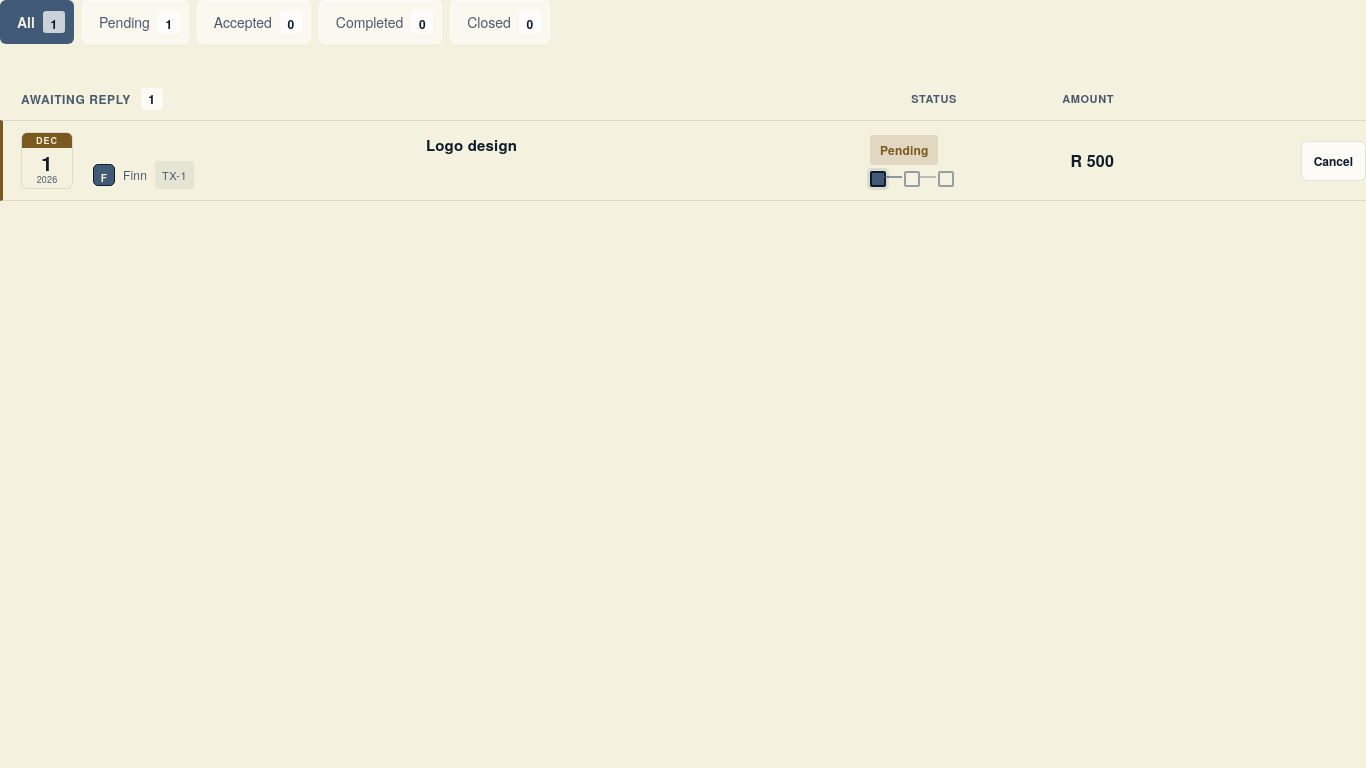
Test: BookingsList status actions › asks first for a confirmed action, then applies it
Click the button "Cancel".
click(1333, 161)  # box [1301,141,1365,181]
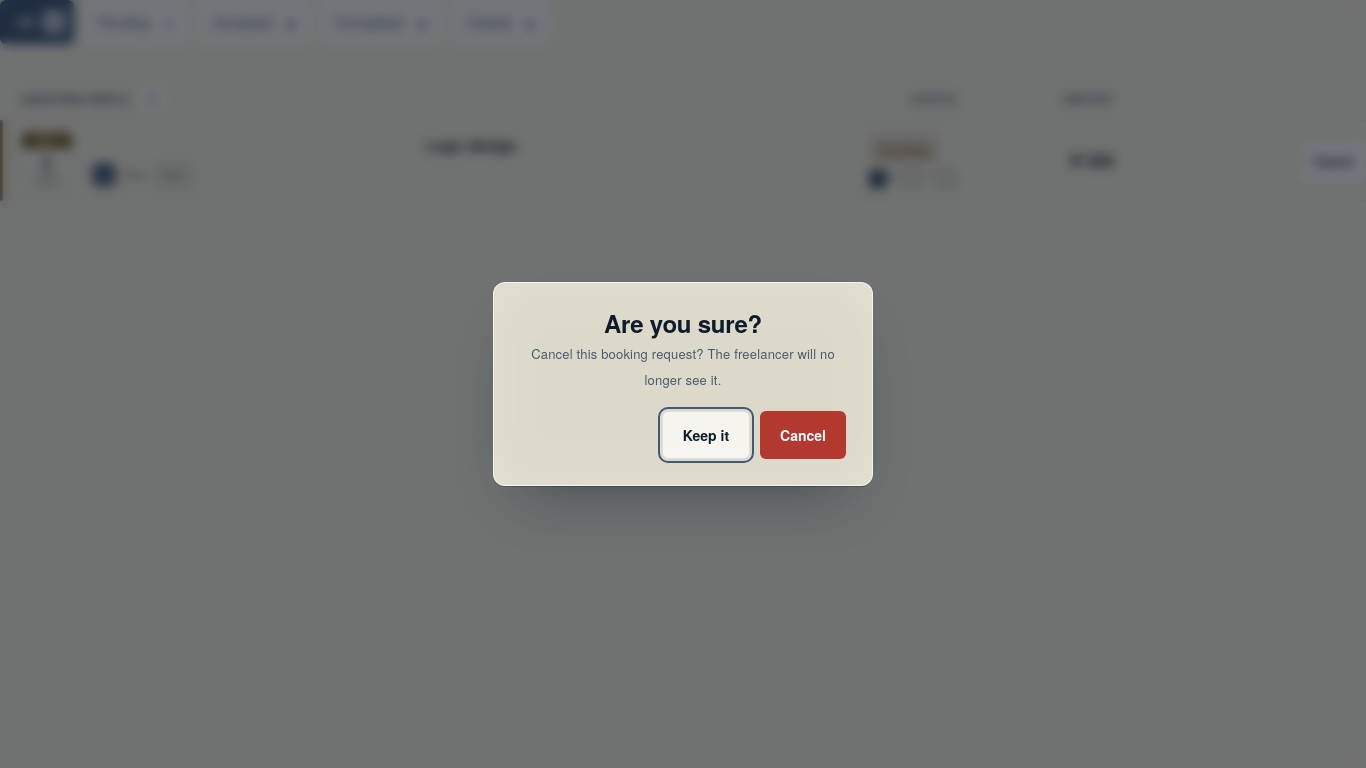
Click the button with class "btn-danger".
click(803, 435)  # box [760,411,846,459]
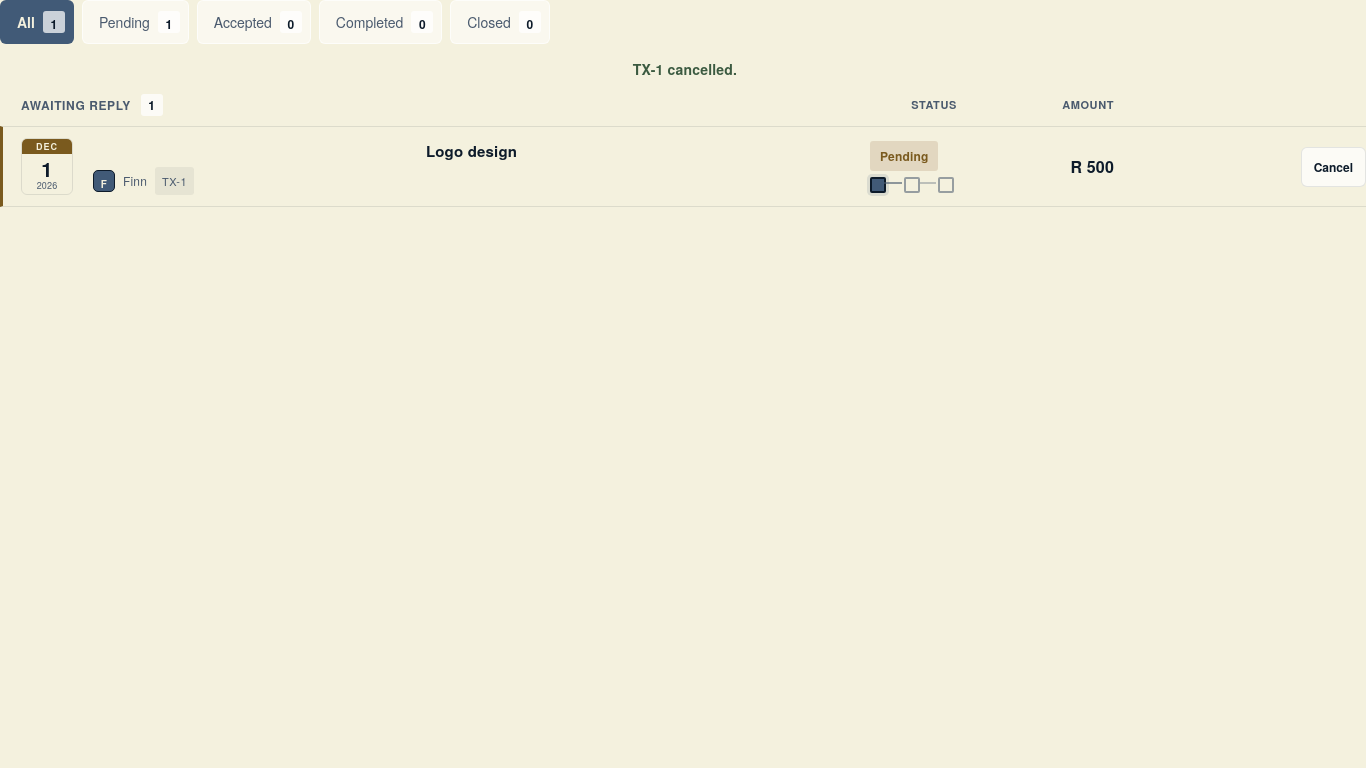
Expected: the text "TX-1 cancelled." is shown, [633,59,737,79]
